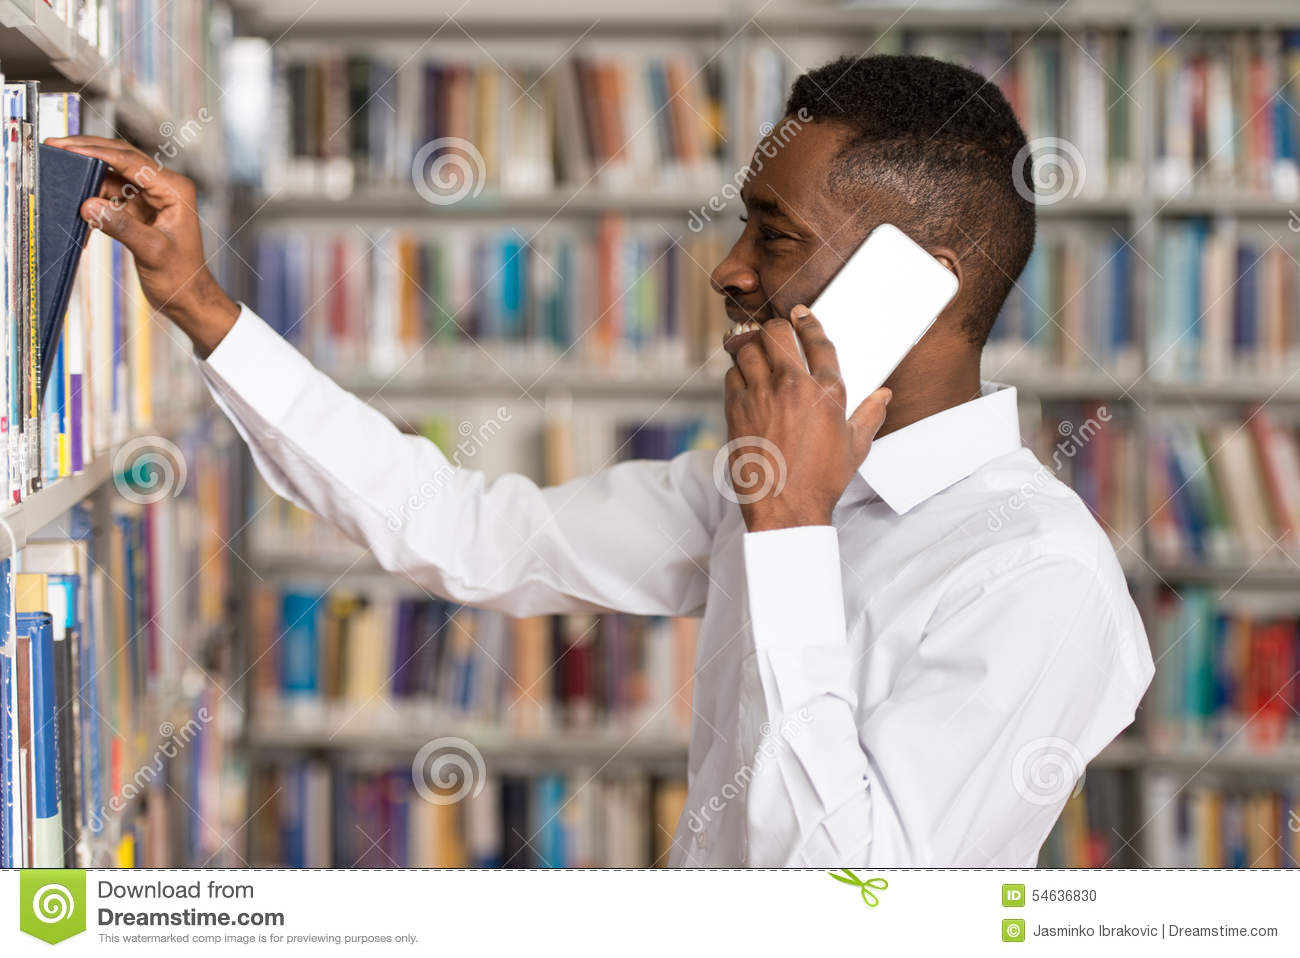phone: (788, 223, 961, 433)
talk: (714, 181, 963, 531)
